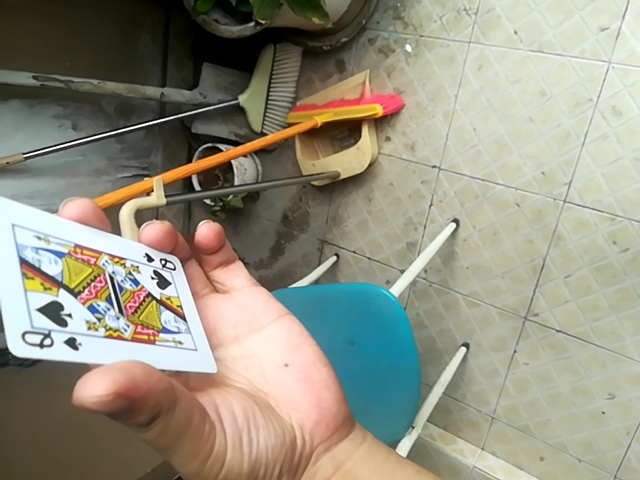ht q: (2, 200, 211, 370)
